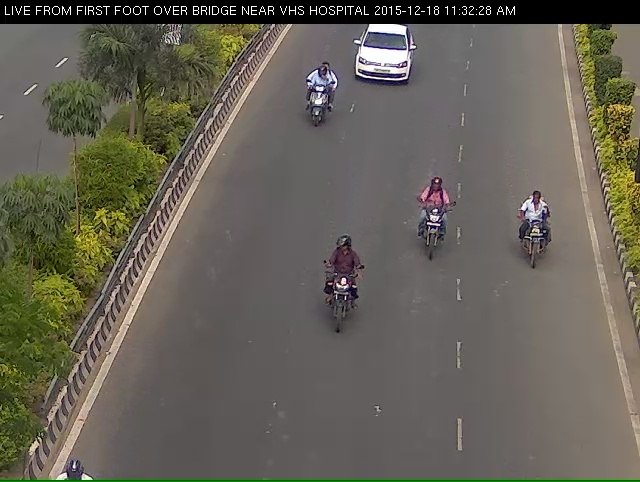Car: (349, 27, 439, 98)
Person: (316, 227, 371, 361), (504, 193, 567, 292), (403, 181, 462, 269), (297, 73, 341, 150)
